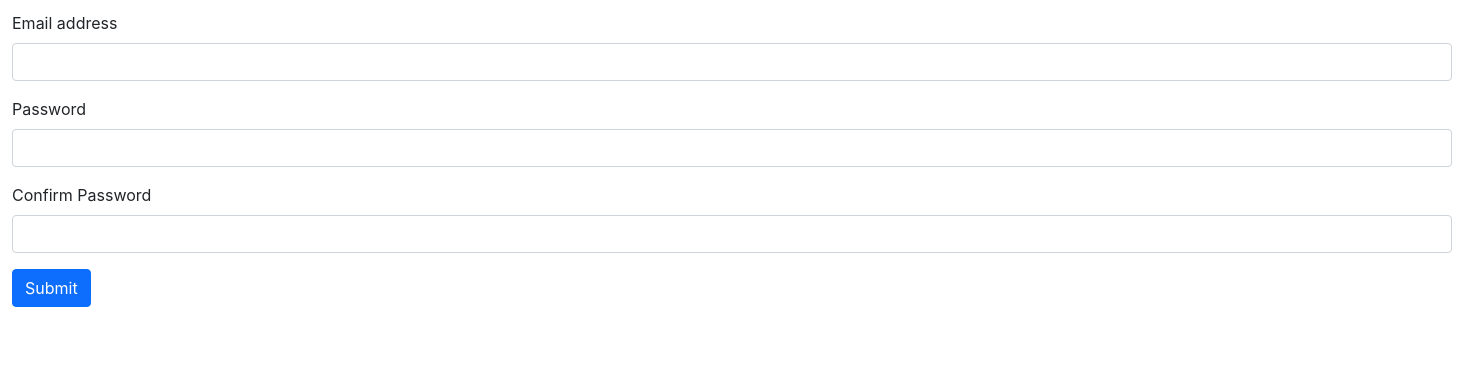
App › Error Handling › should show password error if password is less than 5 characters
Step 1. Type "selna@gmail.com" into the field labelled "Email address" → (732, 62), box [12, 43, 1452, 81]
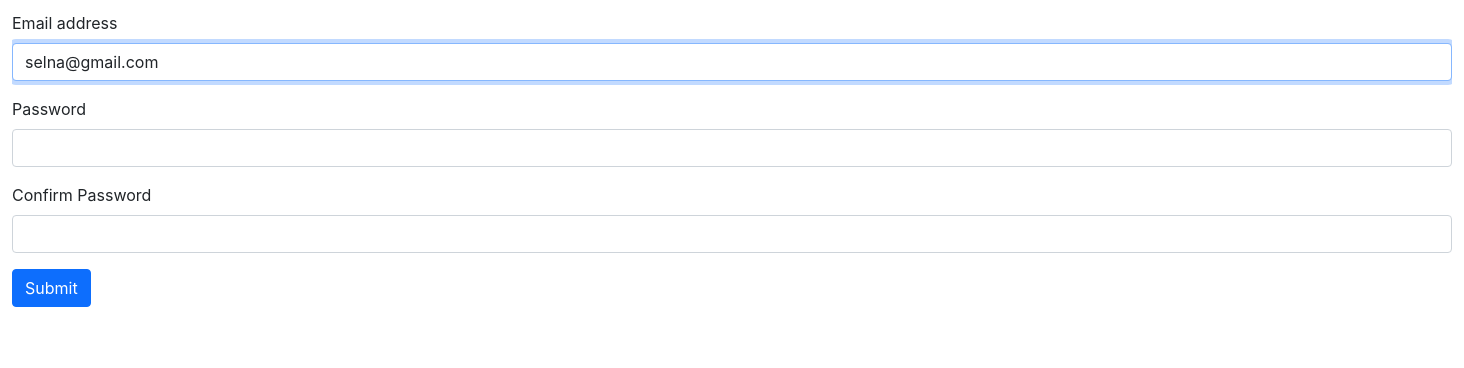
expect the text "password you entered should contain 5 or more characters" is not shown: met
Step 2. Type "1234" into the password field labelled "Password" → (732, 148), box [12, 129, 1452, 167]
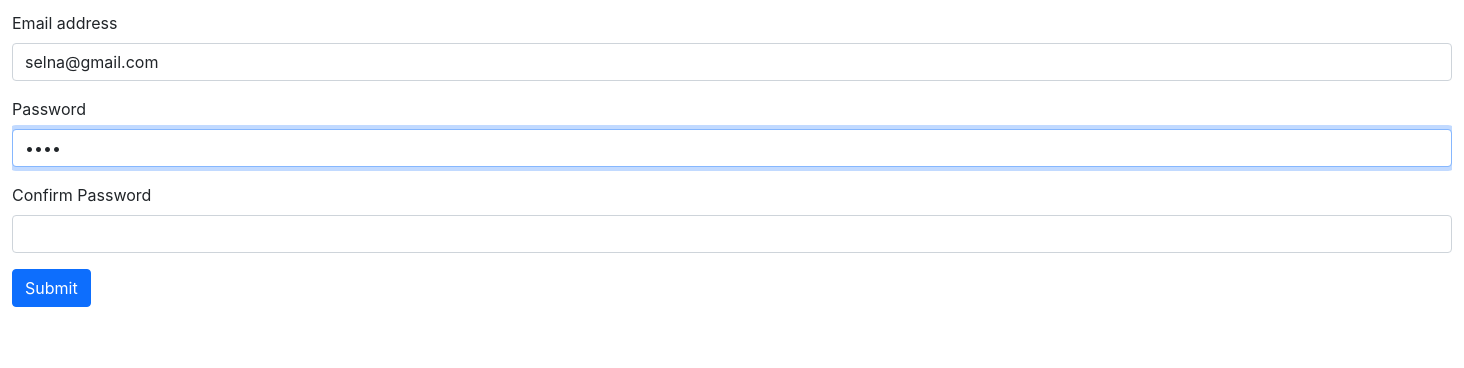
Step 3. Click the button "Submit" → click(51, 288), box [12, 269, 91, 307]
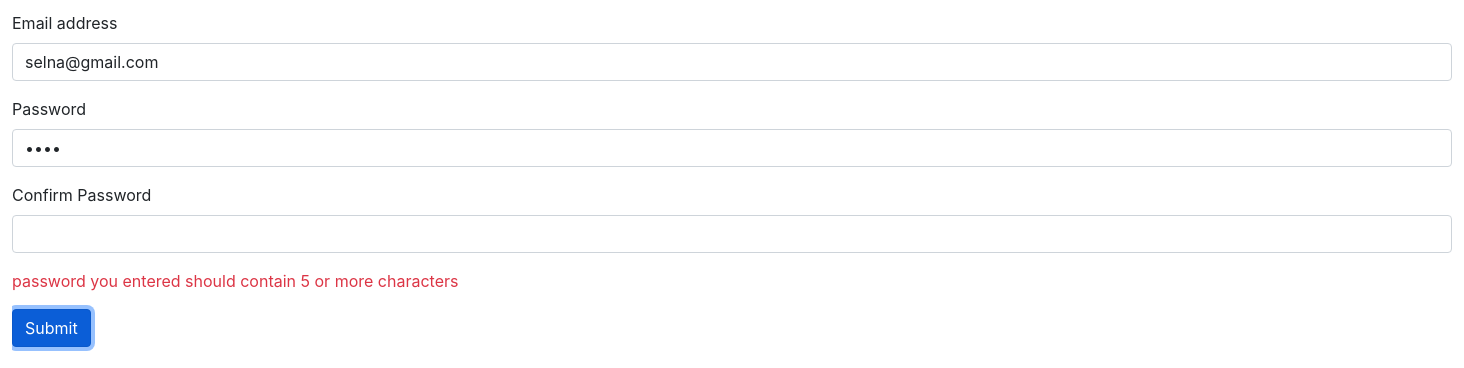
expect the text "password you entered should contain 5 or more characters" is shown: met, box [12, 271, 458, 291]
